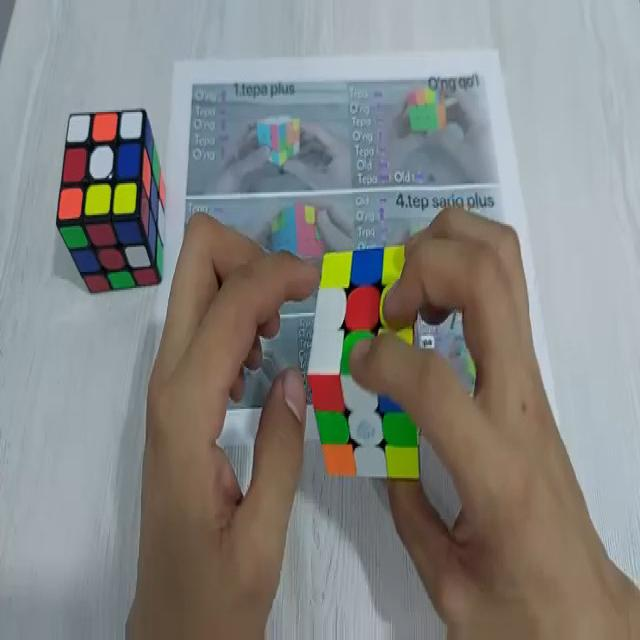Rub: (314, 246, 426, 478), (59, 108, 167, 294)
